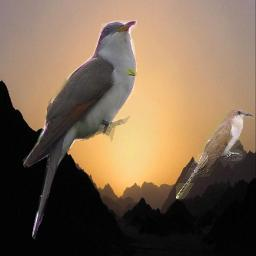Cuckoo: (22, 20, 137, 241), (176, 108, 254, 199)
